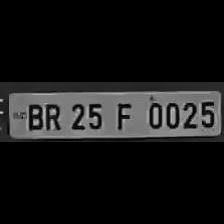0: (142, 99, 164, 129), (162, 100, 180, 128)
2: (66, 99, 86, 131), (180, 99, 198, 129)
5: (84, 99, 106, 130), (196, 98, 216, 128)
B: (23, 100, 44, 130)
F: (110, 99, 136, 131)
R: (42, 100, 62, 130)
